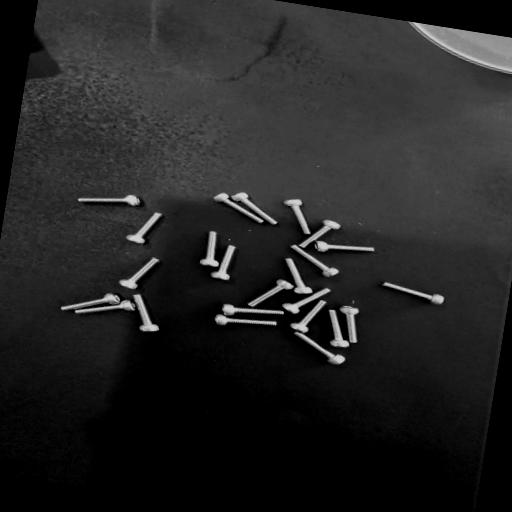Bolt: (294, 332, 345, 364), (291, 245, 338, 277), (231, 193, 277, 225), (214, 193, 263, 223), (382, 283, 444, 305), (248, 279, 293, 307), (120, 258, 159, 289), (282, 289, 330, 314), (299, 220, 340, 248), (290, 301, 326, 332), (126, 213, 162, 244), (285, 258, 312, 294), (133, 295, 159, 332), (61, 294, 121, 310), (283, 199, 310, 234), (75, 300, 136, 314), (211, 245, 235, 280), (329, 310, 349, 347), (223, 304, 284, 316), (215, 314, 276, 326), (339, 306, 358, 343), (78, 195, 141, 206), (200, 232, 219, 267), (315, 241, 374, 252)
